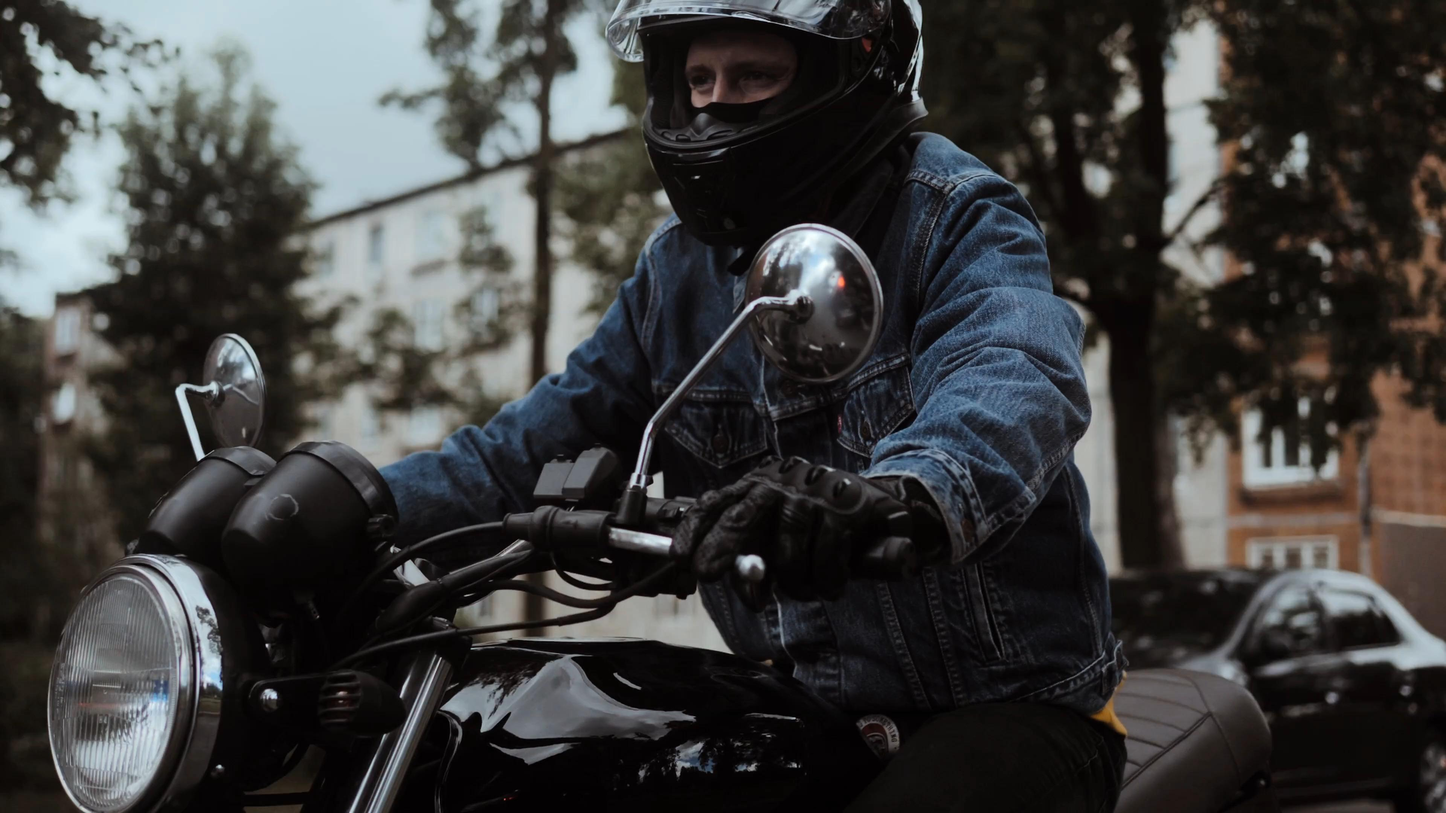driver: (43, 0, 1275, 813)
helmet: (604, 0, 930, 275)
